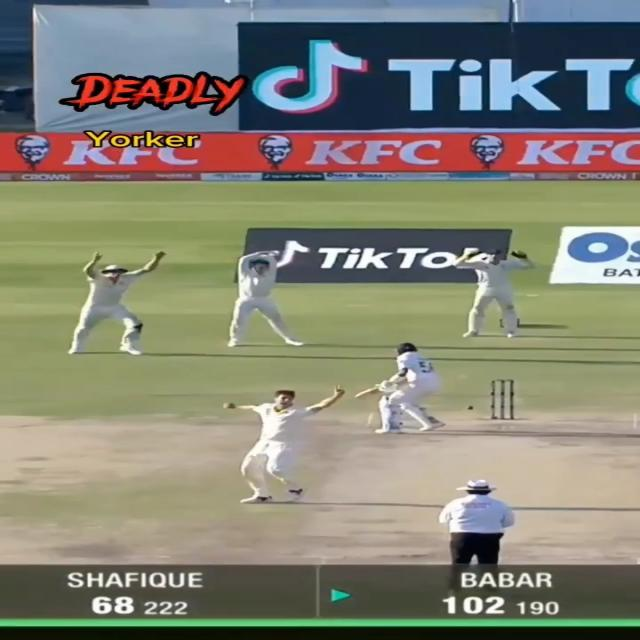ball: (465, 405, 475, 410)
stump: (489, 378, 516, 421)
